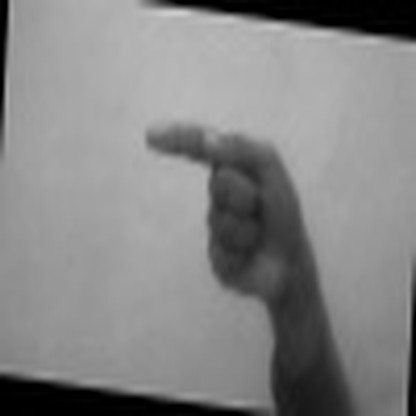g: (126, 109, 346, 297)
